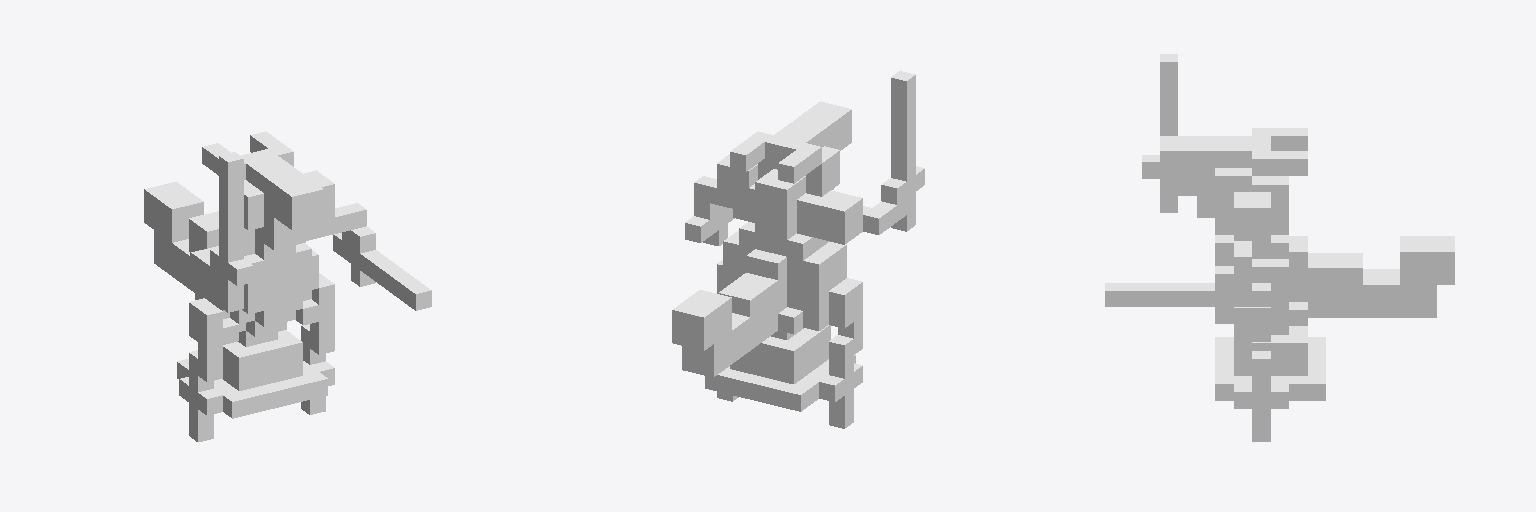
The model's file is lizardmonitor-1.obj.
The picture shows the model from 3 angles: view 1: azimuth 30°, elevation 25°; view 2: azimuth 150°, elevation 25°; view 3: azimuth 270°, elevation 25°; orthographic projection.
Parts seen in each view (by area): view 1: object 1; view 2: object 1; view 3: object 1.
Boxes of the visible parts, x1,y1,x2,y2 form: object 1: [144, 131, 431, 441]; object 1: [672, 71, 924, 428]; object 1: [1105, 54, 1454, 441].
Bounding box in the file's own units: 1.1 × 1.9 × 1.9.